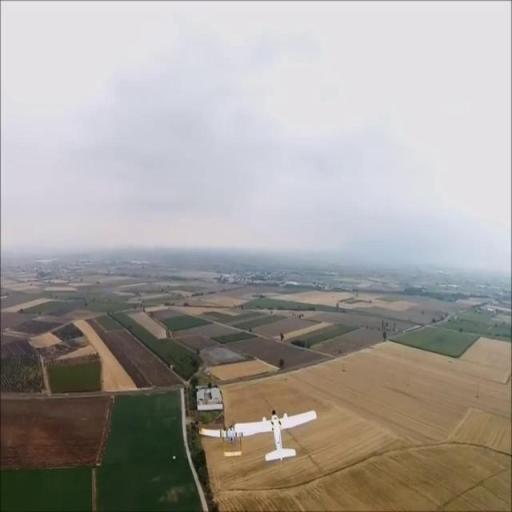uav: (234, 408, 317, 460)
